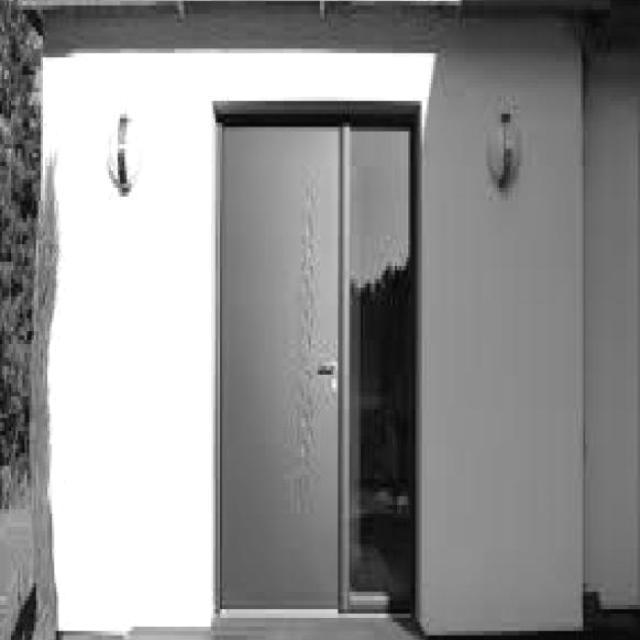door: (211, 76, 353, 637)
